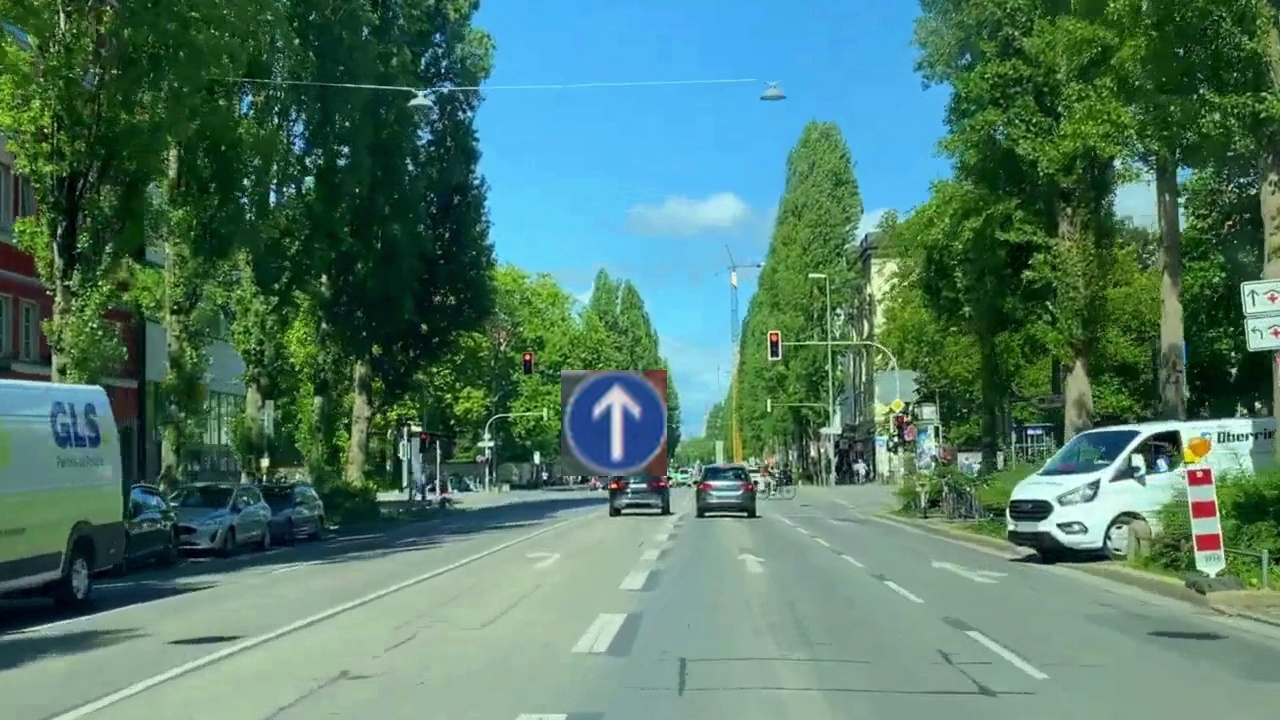Ahead only: (561, 370, 667, 476)
